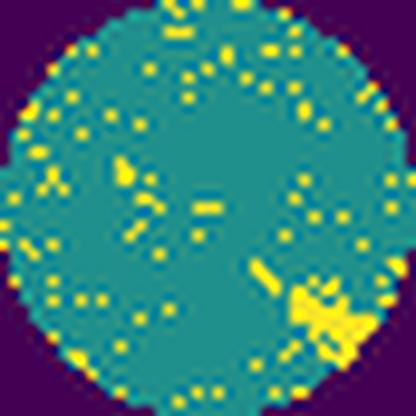Edge-Loc: (292, 285, 378, 367)
